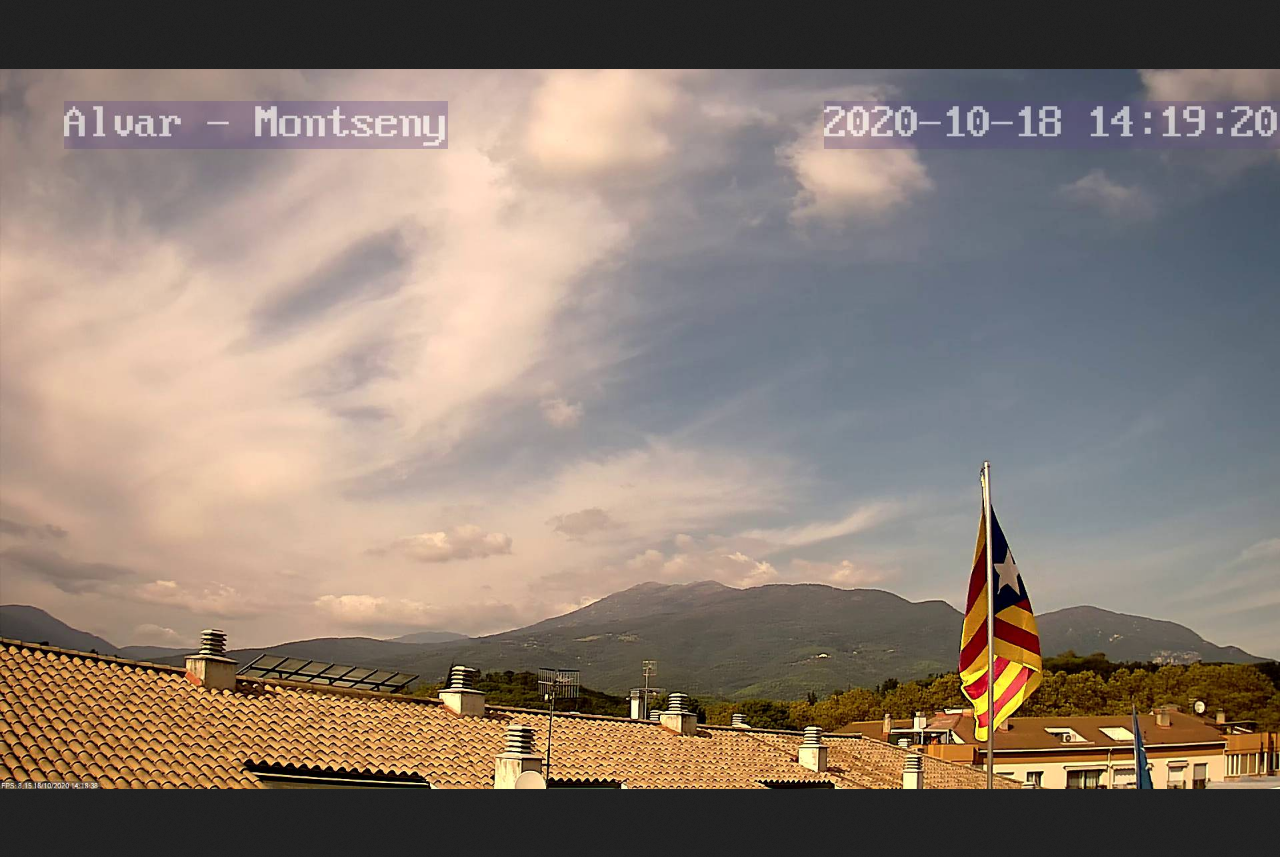no: (955, 506, 1044, 738)
